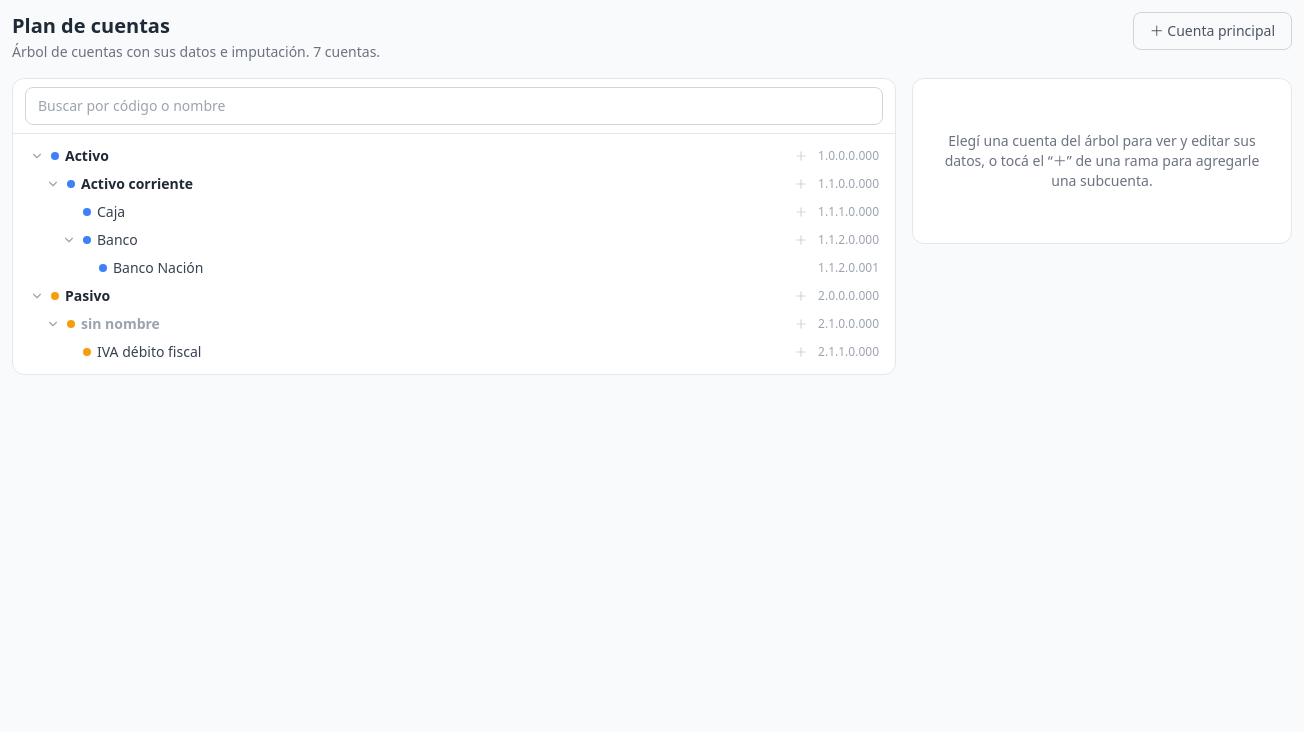
Test case: Plan de cuentas › una cuenta en uso no deja cambiar el código ni el rubro
Click the text "Banco": (117, 240) [97,230,138,250]
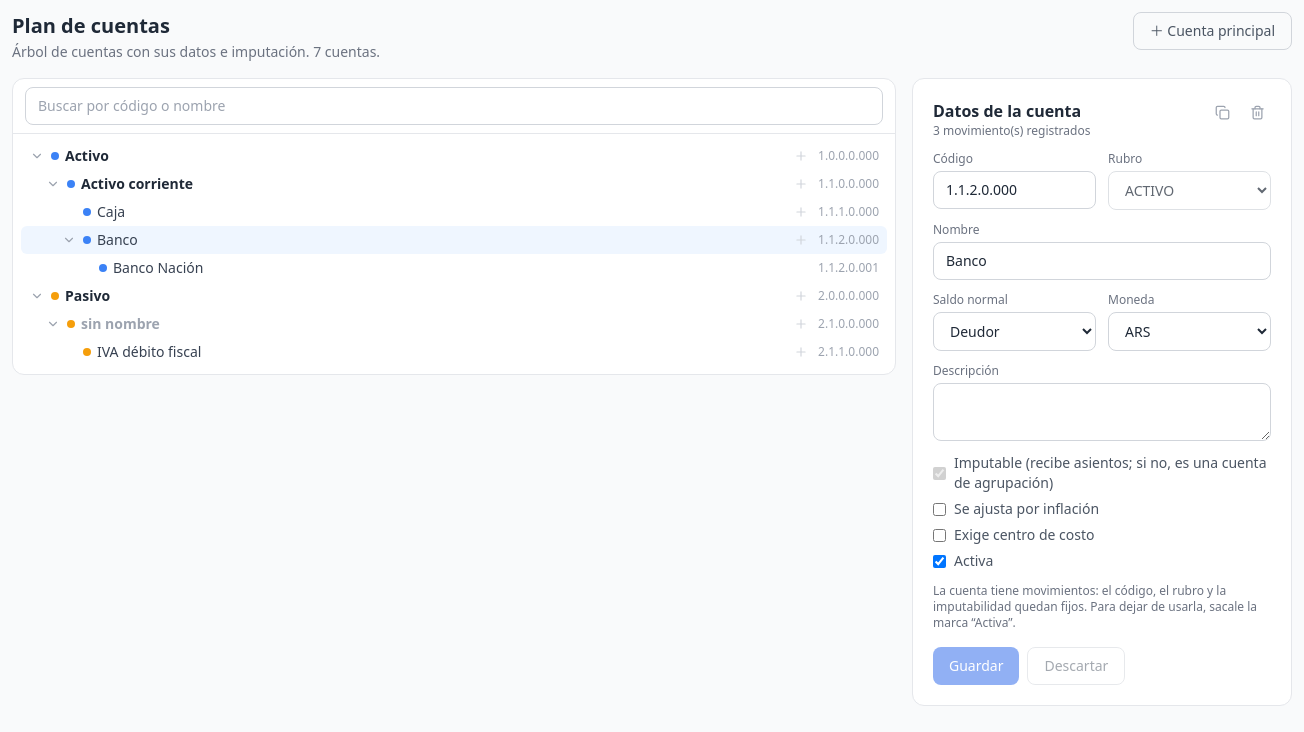
Expected: the text "3 movimiento(s) registrados" is shown, [933,123,1090,139]
Expected: the field labelled "Código" is disabled, [933,171,1096,209]
Expected: the dropdown labelled "Rubro" is disabled, [1108,171,1271,210]
